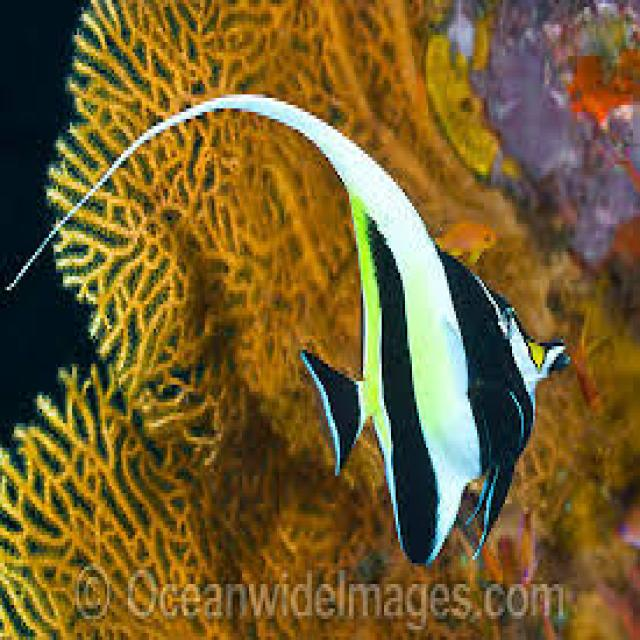MorishIdol: (7, 87, 572, 570)
